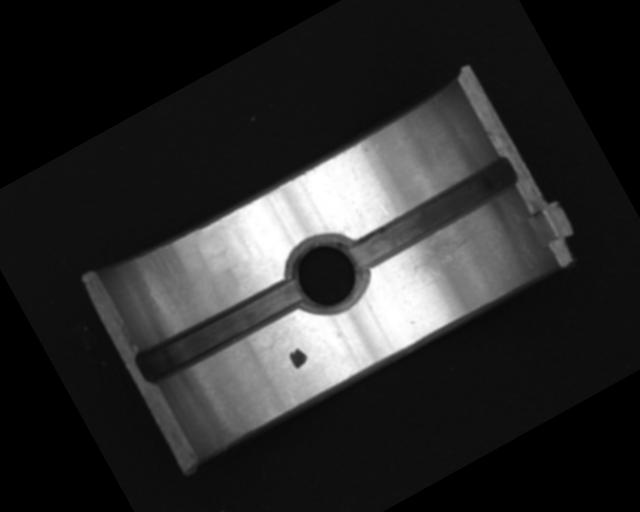blot: (286, 345, 310, 370)
gap: (342, 153, 524, 276), (133, 273, 304, 390)
hole: (274, 224, 376, 327)
nick: (349, 163, 390, 220)
scratch: (397, 205, 506, 290)
